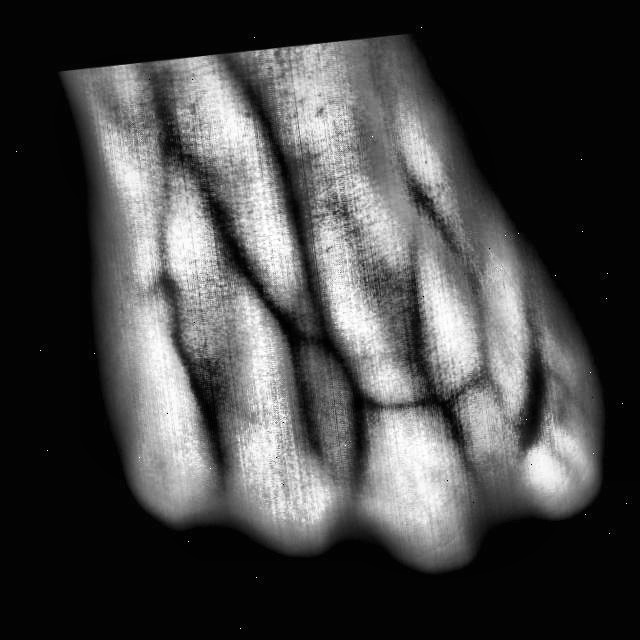Vein: (162, 140, 297, 334), (259, 126, 330, 322)
